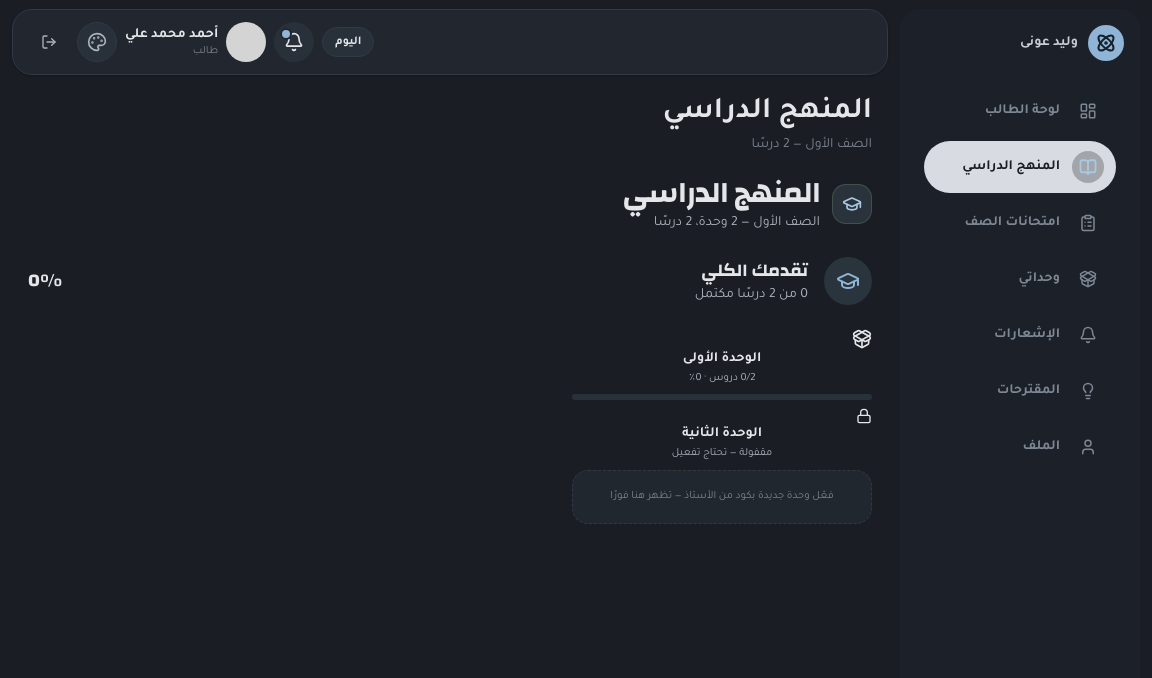
StudentCurriculumPage › applies the voucher from a locked unit with explicit opt-in
Click the tab "الوحدة الثانية مقفولة — تحتاج تفعيل".
click(722, 435)  # box left=572, top=408, right=872, bottom=462
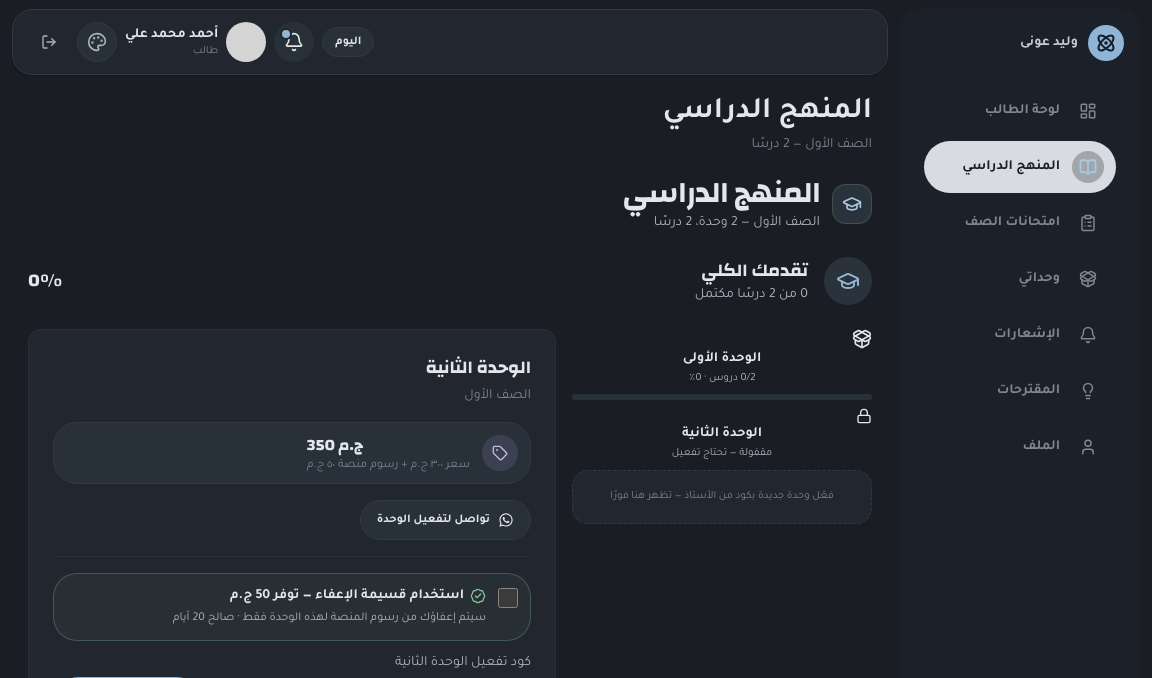
Check: the label with test id "voucher-redeem-unit-2" is shown, box left=53, top=573, right=531, bottom=641
Click the checkbox with test id "voucher-redeem-unit-2-checkbox".
click(508, 598)  # box left=498, top=588, right=518, bottom=608
(page scrolled)
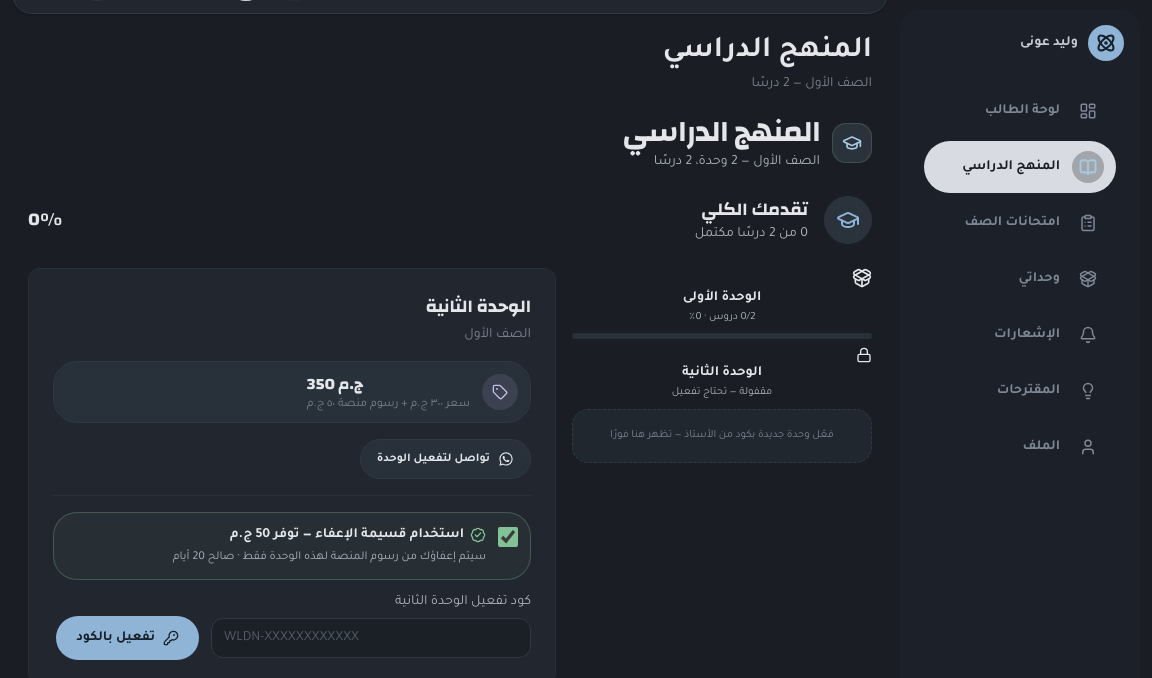
Type "WLDN-ABCD-EFGH-JKLM" into the field labelled "كود تفعيل الوحدة الثانية".
click(371, 638); type("WLDN-ABCD-EFGH-JKLM")  # box left=211, top=618, right=531, bottom=658
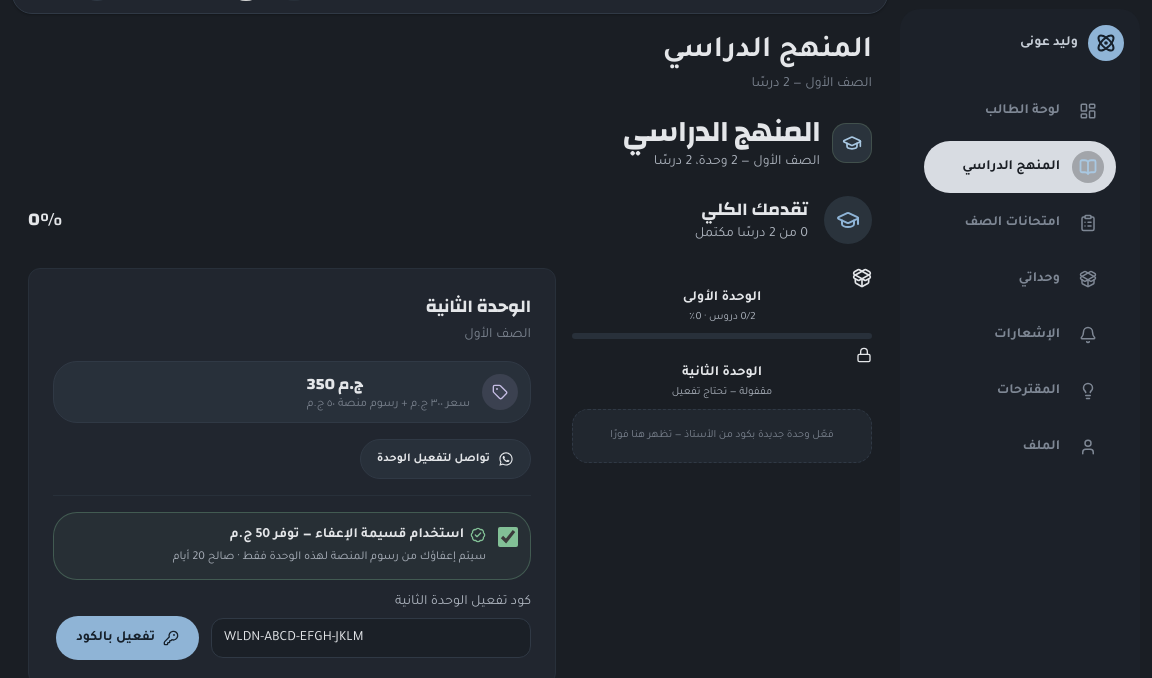
Click the button "تفعيل بالكود".
click(128, 638)  # box left=56, top=616, right=199, bottom=660
(page scrolled)
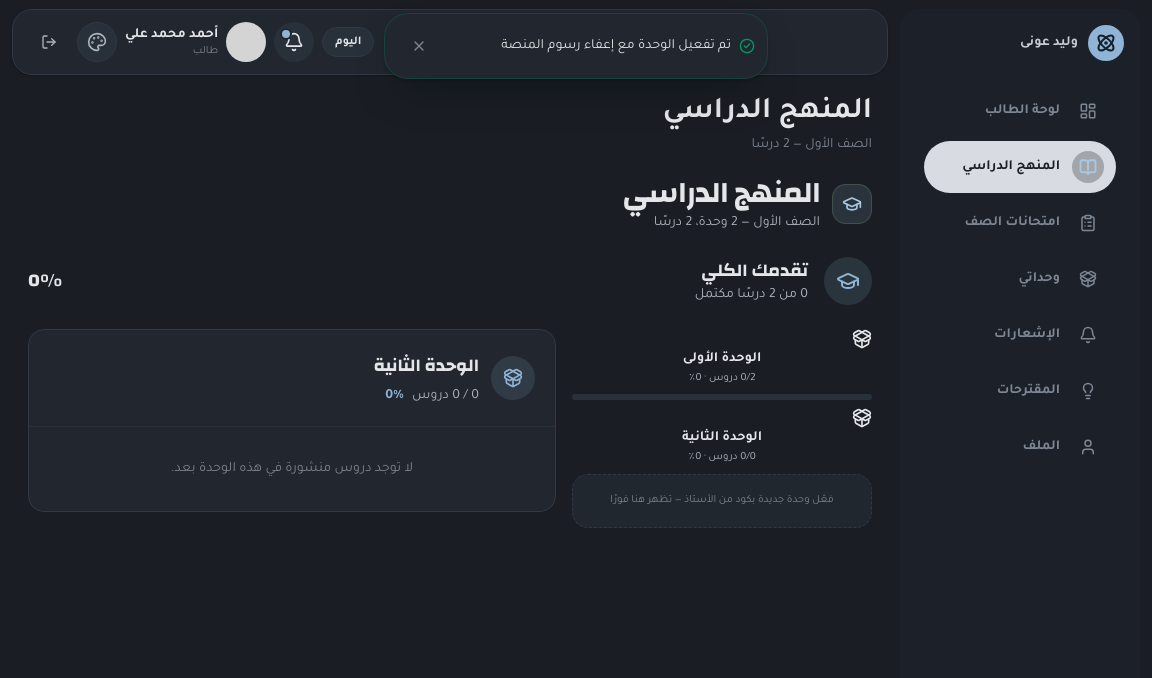
Check: the text "تم تفعيل الوحدة مع إعفاء رسوم المنصة" is shown, box left=501, top=39, right=731, bottom=53
